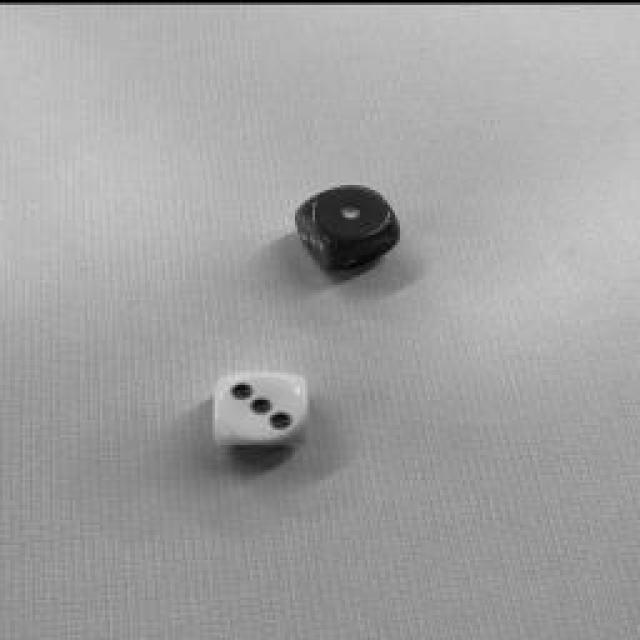dice_1: (310, 182, 390, 240)
dice_3: (216, 370, 304, 440)
